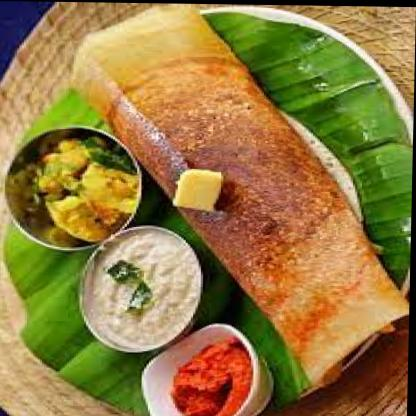dosa: (66, 1, 414, 386)
